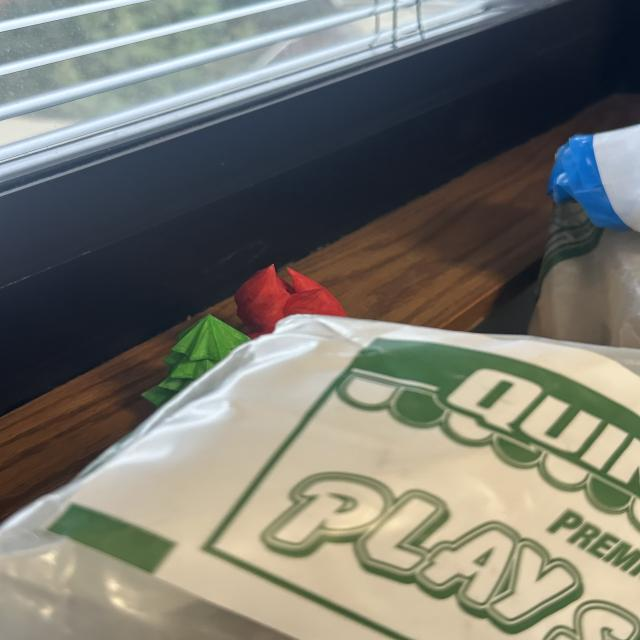fire: (230, 260, 349, 336)
tree: (139, 311, 252, 408)
